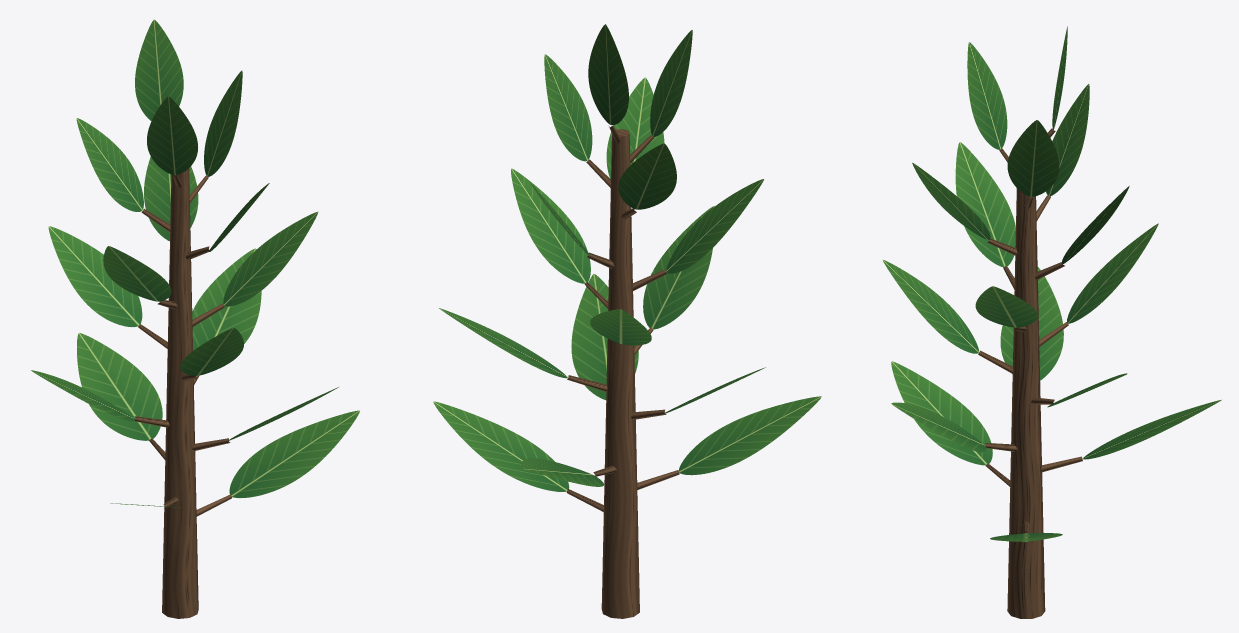
Rendered from placeholder-a-01.glb.
3 renders of one model, left to right at view 1: azimuth 30°, elevation 25°; view 2: azimuth 150°, elevation 25°; view 3: azimuth 270°, elevation 25°, orthographic. The views are drawn at different scales.
Visible parts, largest first — view 1: Leaves, Stem; view 2: Leaves, Stem; view 3: Leaves, Stem.
Boxes of the visible parts, x1,y1,x2,y2 form: Leaves: [31, 19, 359, 507]; Stem: [134, 168, 232, 618]; Leaves: [433, 24, 821, 491]; Stem: [566, 125, 679, 618]; Leaves: [882, 26, 1221, 541]; Stem: [978, 128, 1082, 618].
Size of the model in its own units: 0.2656 by 0.443 by 0.2502.
2 materials, 2 textured.
